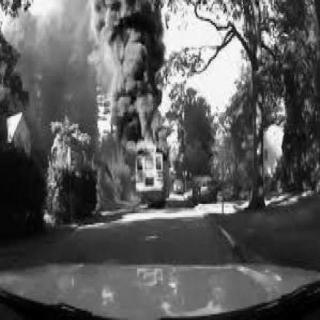Smoke: (84, 1, 178, 143)
